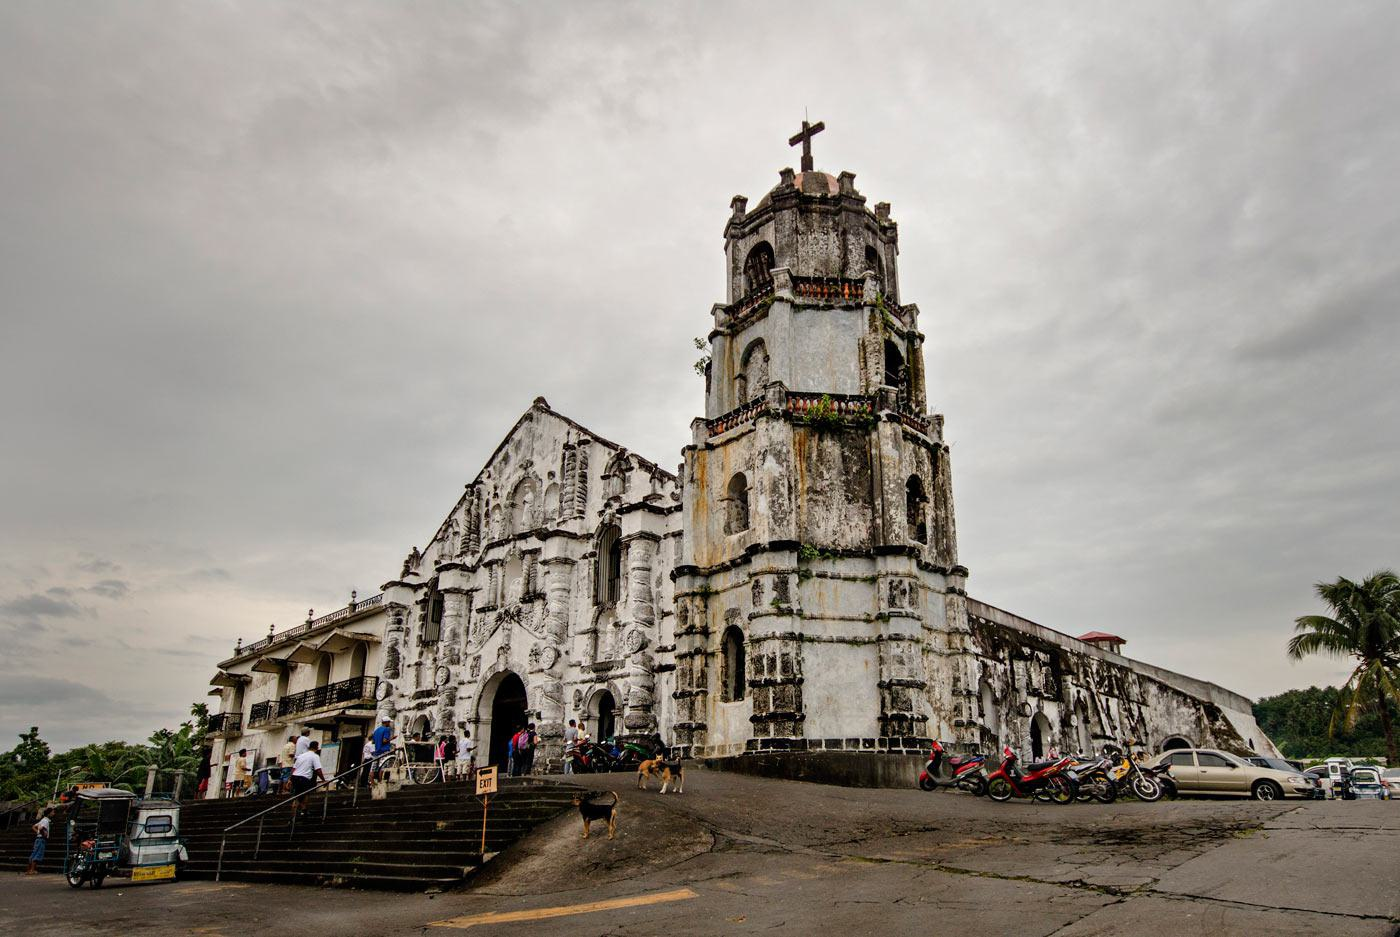daraga_church_daraga_albay: (374, 104, 958, 777)
vegetation_damage: (797, 393, 850, 434), (790, 536, 842, 570)
